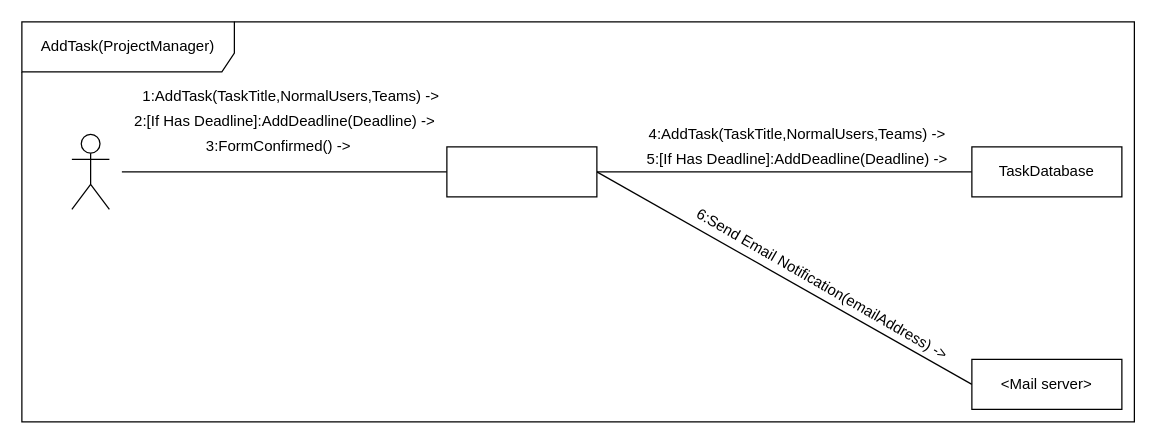
This 1156x444 diagram has some shape labels left out. The shapes that lost their labels are listed below. From the top down, each one's centre as x and y in pixels, then its label:
the point at 90,171: Project Manager
the point at 521,171: System
